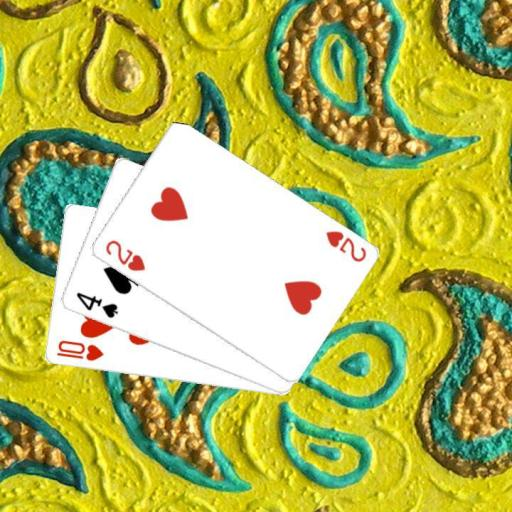10H: (54, 337, 105, 363)
2H: (322, 227, 368, 264), (102, 236, 147, 273)
4S: (73, 289, 120, 320)
